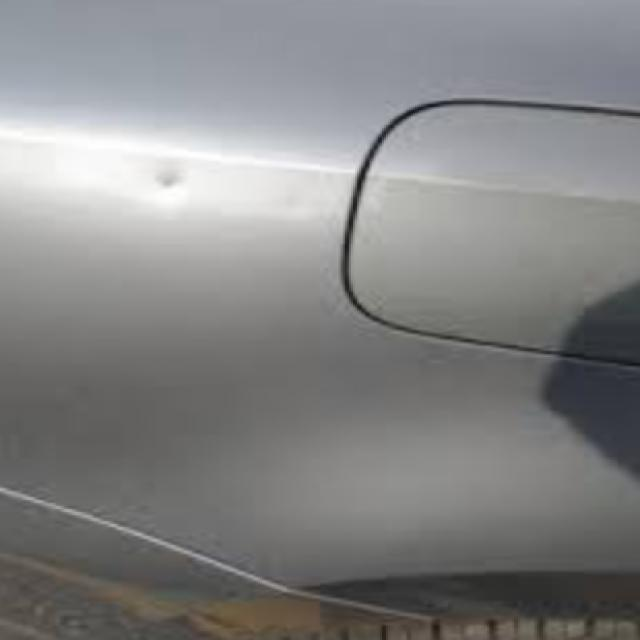dents: (134, 120, 210, 210)
